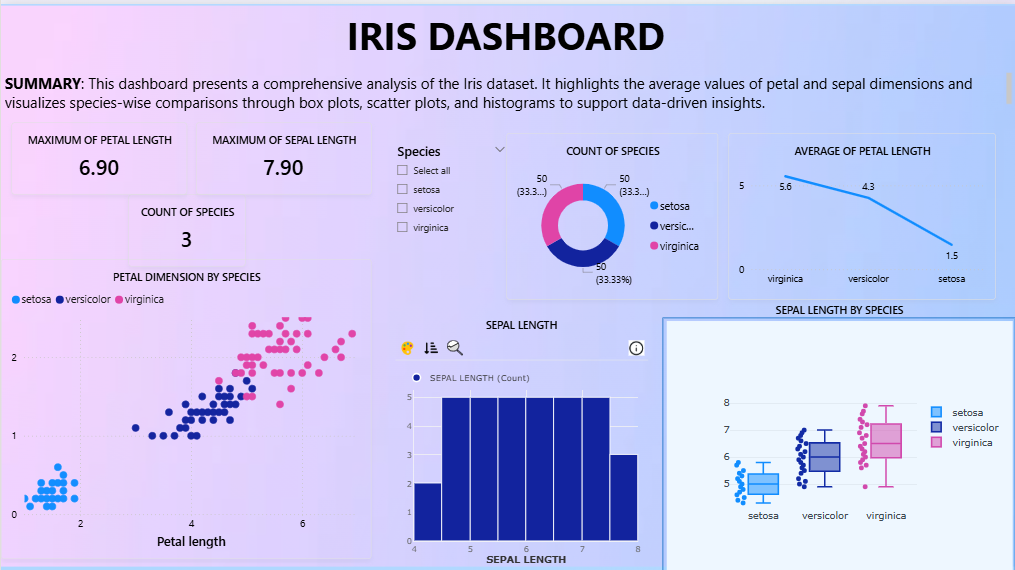

The dashboard page shown, as its layout file describes it:
{"tool":"powerbi","page":{"name":"Page 1","canvas":[1280,720],"ordinal":0},"visuals":[{"type":"scatterChart","title":"PETAL DIMENSION BY SPECIES","fields":{"Series":["Iris dataset.species"],"X":["Iris dataset.petal_length"],"Y":["Iris dataset.petal_width"]},"box":[0,321.3,466.8,378],"z":3000},{"type":"histogramF963F133BA02A0B35D286F09F80E9C78","fields":{"col_2":["Iris dataset.sepal_length"]},"box":[491.3,395,328.8,323.2],"z":4000},{"type":"slicer","fields":{"Values":["Iris dataset.species"]},"box":[491.3,173.9,151.2,134.2],"z":5000},{"type":"boxPloty6C987A9E682A4A859272BFEC966AF372","title":"SEPAL LENGTH BY SPECIES","fields":{"measure":["Iris dataset.sepal_length"],"category":["Iris dataset.species"]},"box":[833.4,376.1,446,343.9],"z":6000},{"type":"textbox","box":[262.7,0,746.5,81.3],"z":7000},{"type":"textbox","box":[0,81.3,1279.4,68],"z":8000},{"type":"donutChart","title":"COUNT OF SPECIES","fields":{"Category":["Iris dataset.species"],"Y":["CountNonNull(Iris dataset.species)"]},"box":[636.9,162.5,266.5,209.8],"z":9000},{"type":"lineChart","title":"AVERAGE OF PETAL LENGTH","fields":{"Category":["Iris dataset.species"],"Y":["Avg(Iris dataset.petal_length)"]},"box":[916.5,162.5,336.4,209.8],"z":10000},{"type":"shape","box":[833.4,395,446,325],"z":11000},{"type":"card","title":"COUNT OF SPECIES ","fields":{"Values":["Count(Iris dataset.species)"]},"box":[160.6,240,147.4,90.7],"z":11001},{"type":"card","title":"MAXIMUM OF PETAL LENGTH ","fields":{"Values":["Max(Iris dataset.petal_length)"]},"box":[13.2,149.3,221.1,90.7],"z":11002},{"type":"card","title":"MAXIMUM OF SEPAL LENGTH ","fields":{"Values":["Max(Iris dataset.sepal_length)"]},"box":[245.7,149.3,221.1,90.7],"z":11004}]}

Visuals, with their boxes in screenshot pixels (x1, y1, x2, y2), scaled from the page's 1280x720 canvas onto the 1015x570 screenshot:
"PETAL DIMENSION BY SPECIES" scatterChart: bbox(0, 254, 370, 554)
histogramF963F133BA02A0B35D286F09F80E9C78 - Iris dataset.sepal_length: bbox(390, 313, 650, 569)
slicer - Iris dataset.species: bbox(390, 138, 509, 244)
"SEPAL LENGTH BY SPECIES" boxPloty6C987A9E682A4A859272BFEC966AF372: bbox(661, 298, 1014, 569)
textbox: bbox(208, 0, 800, 64)
textbox: bbox(0, 64, 1014, 118)
"COUNT OF SPECIES" donutChart: bbox(505, 129, 716, 295)
"AVERAGE OF PETAL LENGTH" lineChart: bbox(727, 129, 994, 295)
shape: bbox(661, 313, 1014, 569)
"COUNT OF SPECIES " card: bbox(127, 190, 244, 262)
"MAXIMUM OF PETAL LENGTH " card: bbox(10, 118, 186, 190)
"MAXIMUM OF SEPAL LENGTH " card: bbox(195, 118, 370, 190)
